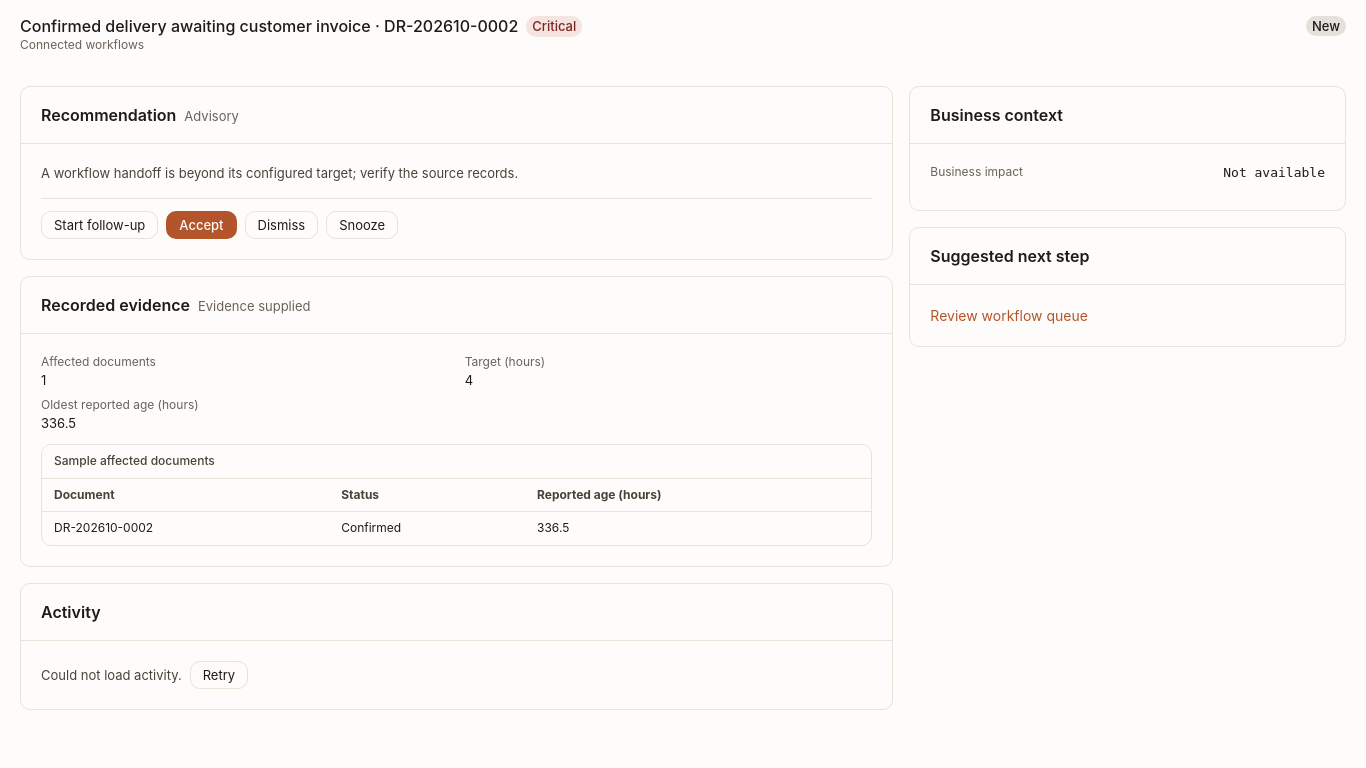
Test: RecommendationDetails › shows empty activity and can retry a failed timeline request
Expected: the text "Could not load activity." is shown, left=41, top=666, right=182, bottom=684
Click the button "Retry" at (219, 675), box left=190, top=661, right=248, bottom=689
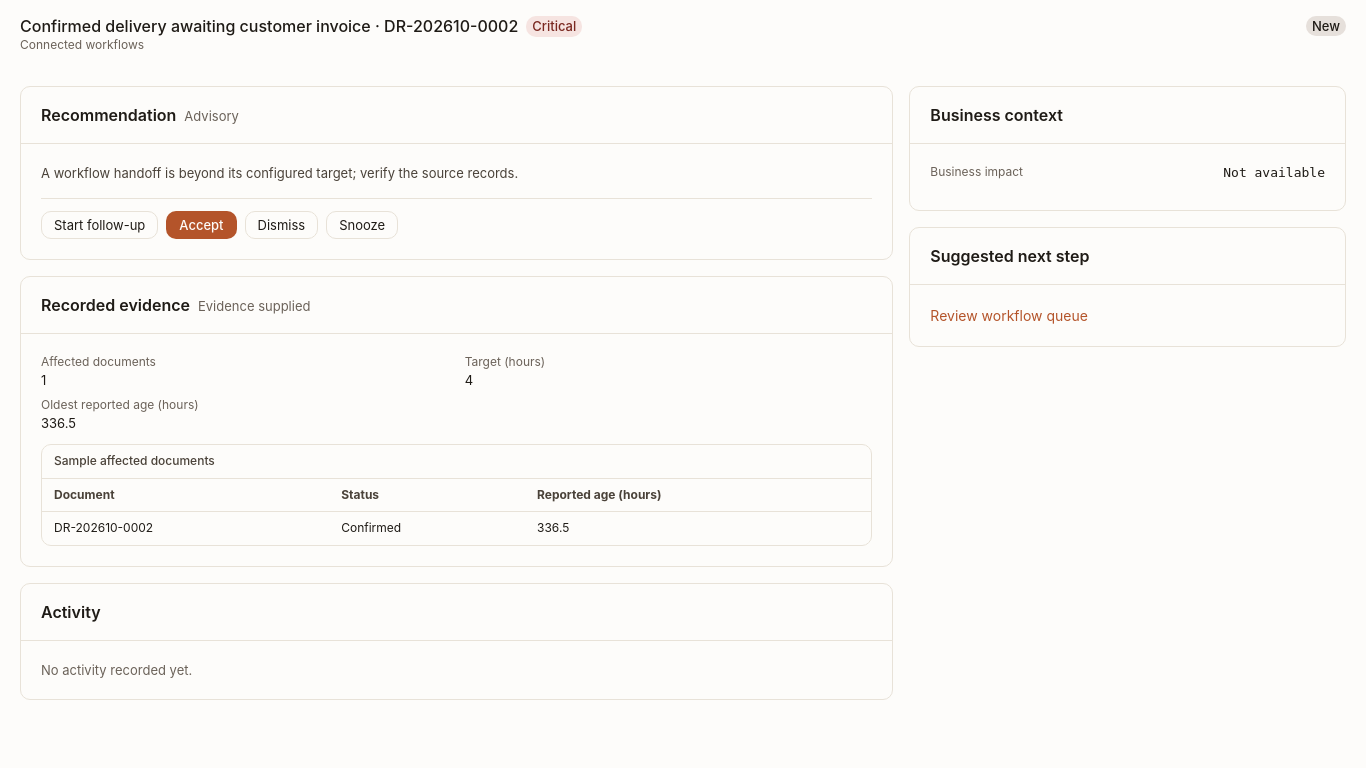
Result: the text "No activity recorded yet." is shown at left=41, top=662, right=192, bottom=678
